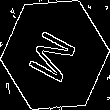M_SE: (26, 23, 84, 87)
